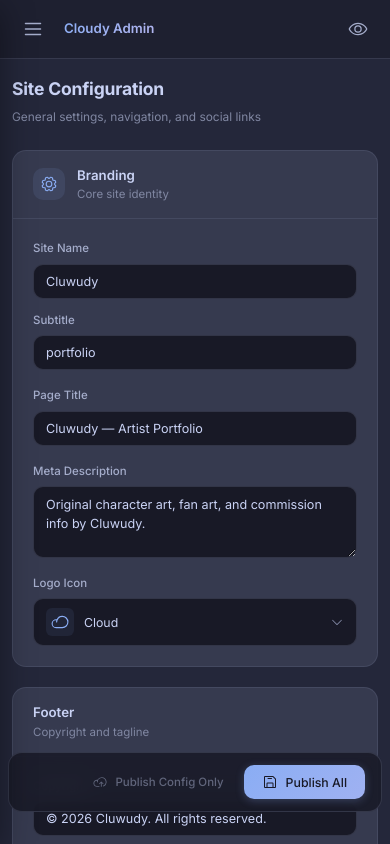
DashboardLayout › TC-038: opens the sidebar overlay from the mobile hamburger button
The width and height of the screenshot is (390, 844).
Check: the heading "Site Configuration" is shown, box [12,78,164,99]
Click the button named "Open menu".
click(33, 29)  # box [14,10,52,48]
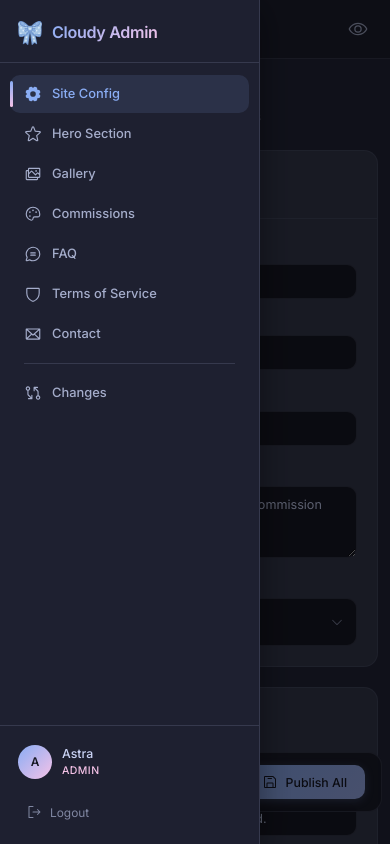
Check: the element with class "sidebar-overlay" is shown
